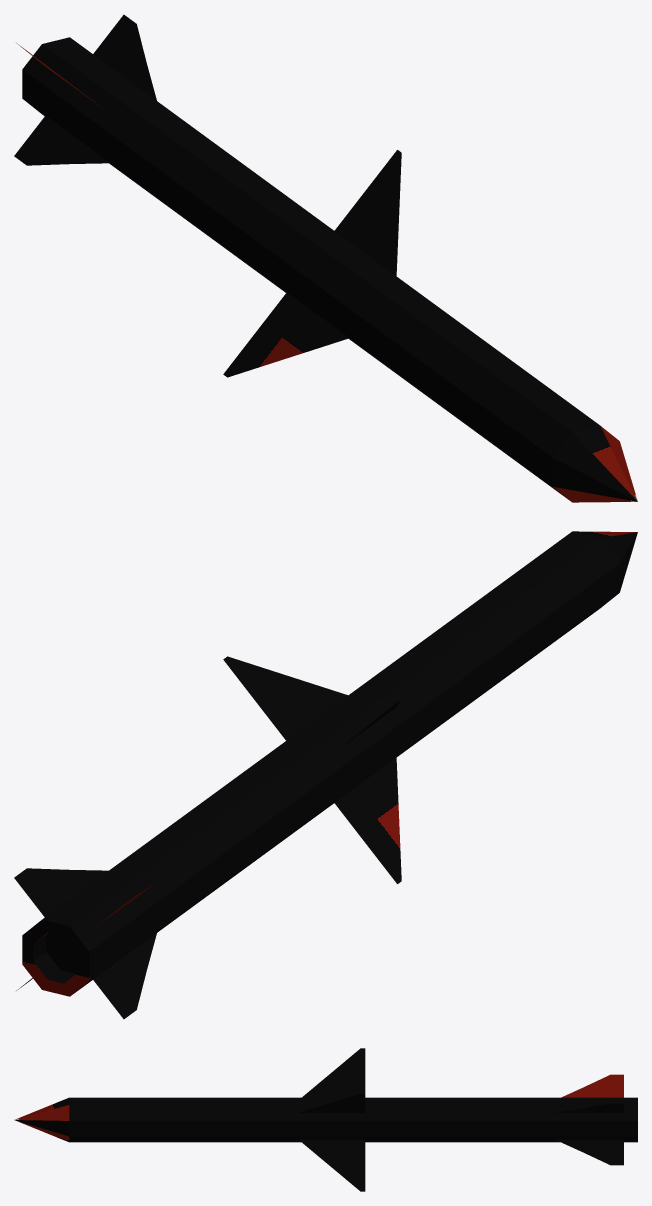
Rendered from aim7mh.obj.
The picture shows the model from 3 angles, top to bottom: view 1: azimuth 30°, elevation 25°; view 2: azimuth 150°, elevation 25°; view 3: azimuth 270°, elevation 25°; orthographic projection. The views are drawn at different scales.
Visible parts, largest first — view 1: cylinder, cone, plane4, plane, plane6, plane1, cube; view 2: cylinder, cube, plane4, plane, plane6, plane1, cone; view 3: cylinder, plane3, plane2, cone, plane5, plane7, plane, cube, plane1.
Boxes of the visible parts, x1=… form: cylinder: x1=35, y1=46, x2=599, y2=499; cone: x1=552, y1=425, x2=637, y2=502; plane4: x1=223, y1=293, x2=348, y2=377; plane: x1=334, y1=150, x2=401, y2=275; plane6: x1=14, y1=116, x2=109, y2=165; plane1: x1=93, y1=14, x2=156, y2=100; cube: x1=22, y1=37, x2=82, y2=116; cylinder: x1=46, y1=531, x2=619, y2=985; cube: x1=22, y1=910, x2=102, y2=996; plane4: x1=334, y1=757, x2=401, y2=883; plane: x1=223, y1=656, x2=347, y2=740; plane6: x1=93, y1=932, x2=157, y2=1019; plane1: x1=14, y1=868, x2=108, y2=917; cone: x1=573, y1=531, x2=637, y2=591; cylinder: x1=69, y1=1097, x2=623, y2=1142; plane3: x1=299, y1=1139, x2=365, y2=1191; plane2: x1=302, y1=1048, x2=365, y2=1097; cone: x1=14, y1=1098, x2=69, y2=1141; plane5: x1=555, y1=1139, x2=623, y2=1165; plane7: x1=561, y1=1074, x2=623, y2=1097; plane: x1=298, y1=1094, x2=365, y2=1112; cube: x1=624, y1=1097, x2=637, y2=1142; plane1: x1=555, y1=1103, x2=623, y2=1112.
Bounding box in the file's own units: 0.9723 × 0.9723 × 5.62.
